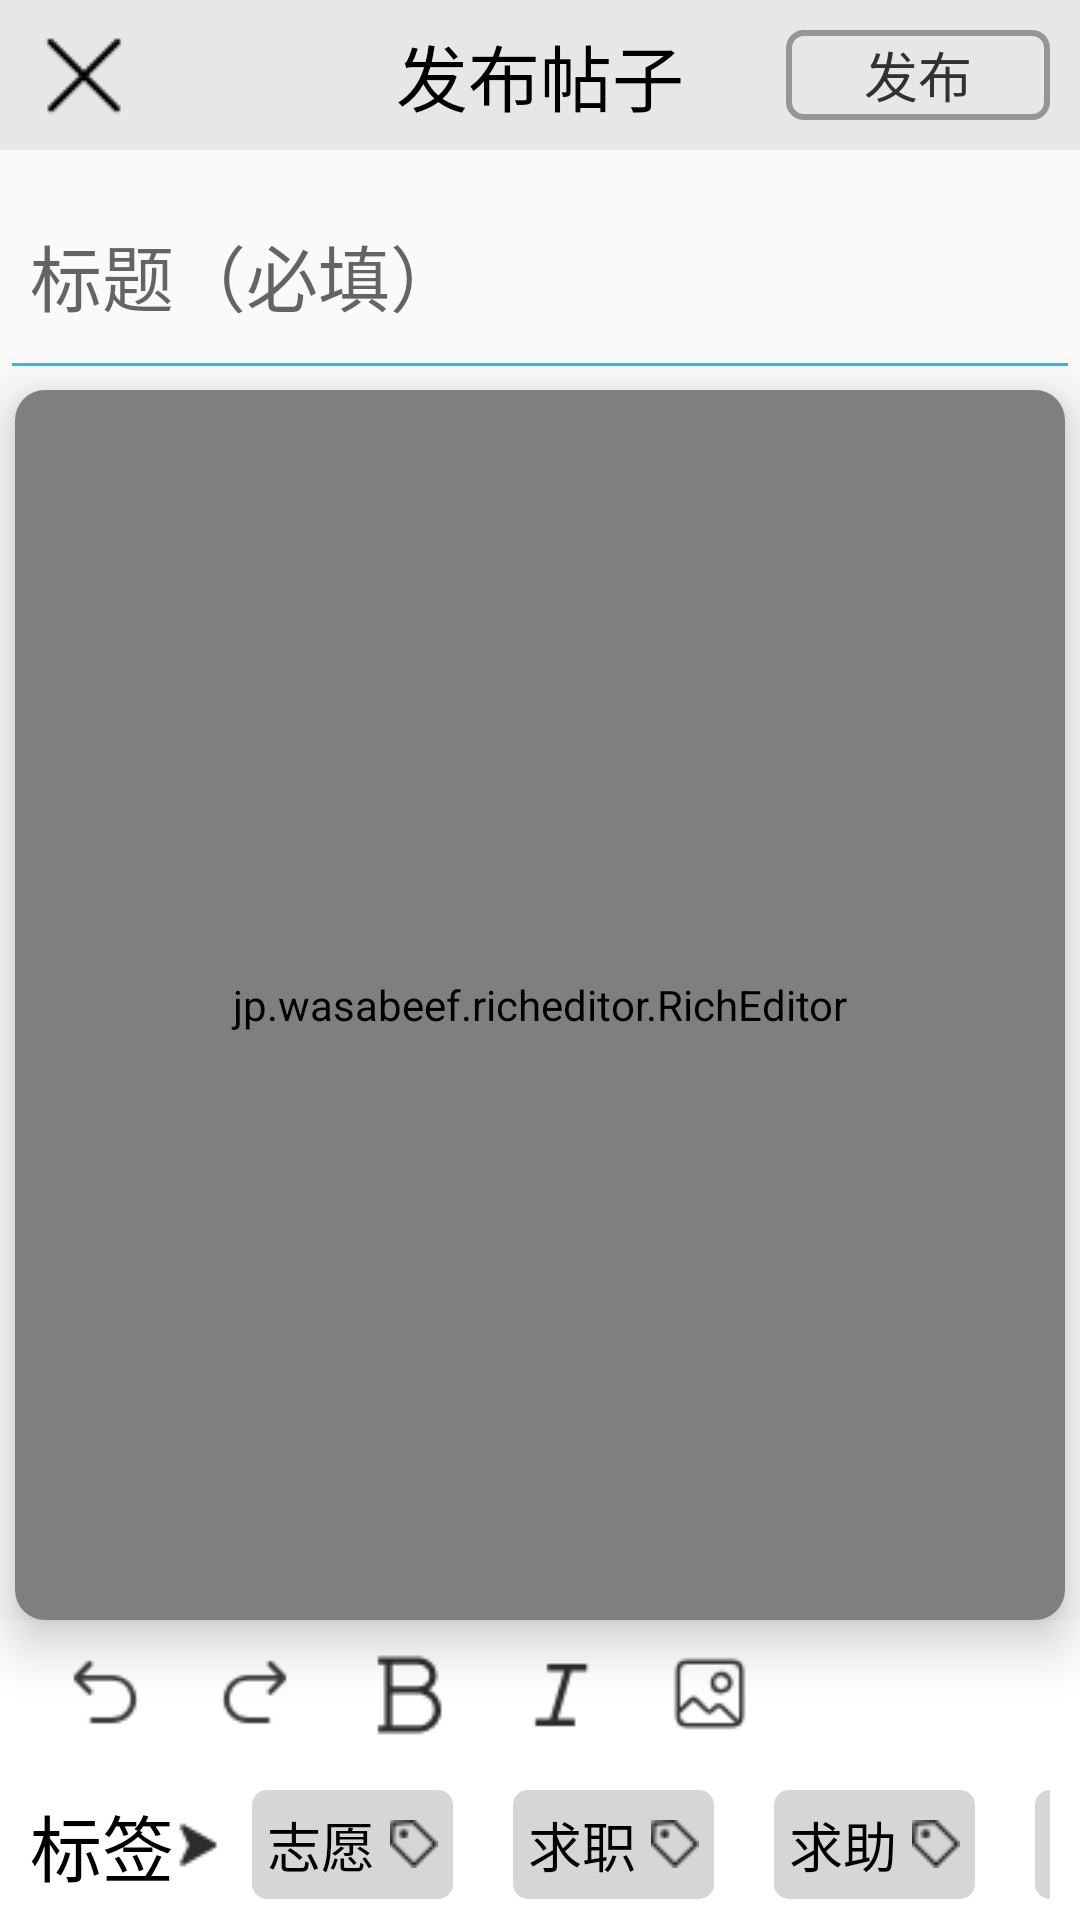

Named icons in this screenshot (1080*1920) and their centers, [x,y]:
insert: [710,1693]
italic: [561,1695]
redo: [255,1692]
undo: [105,1692]
